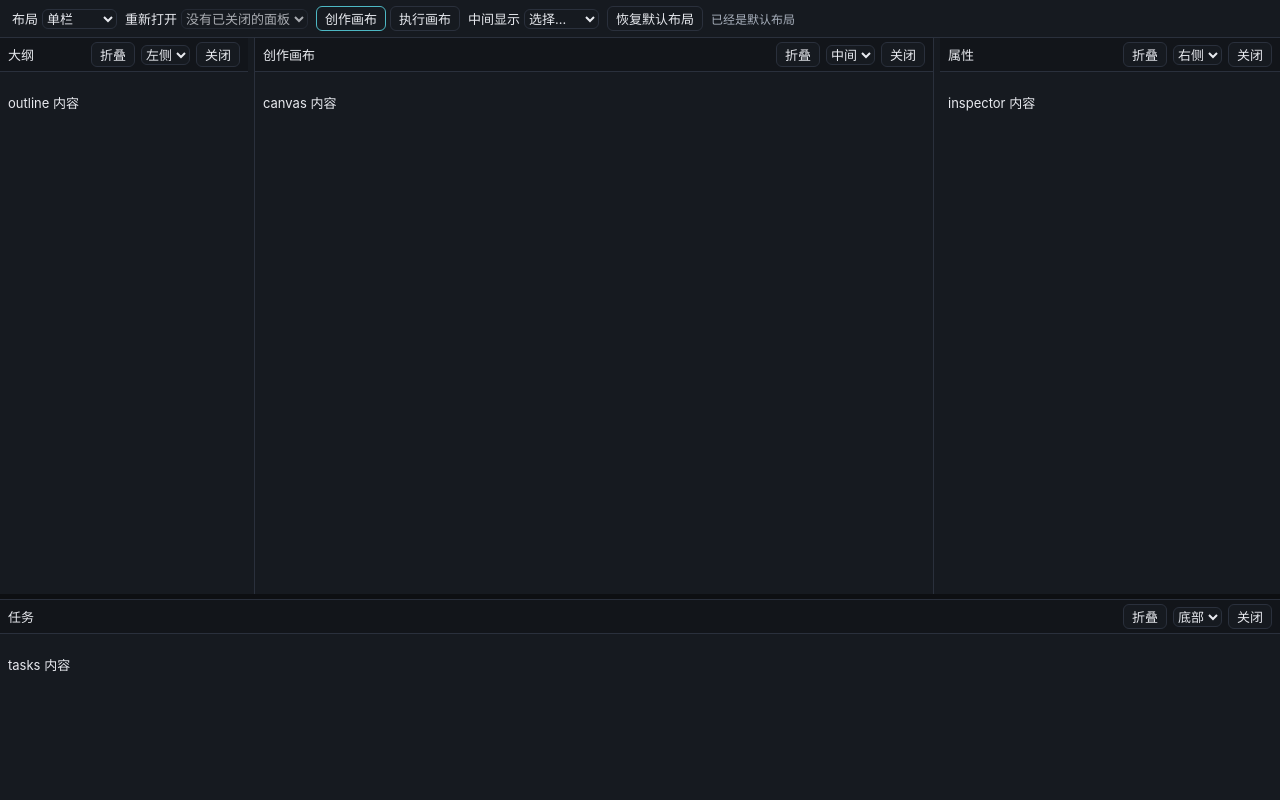
N5 visible main-panel tabs + layout.showPanel › both main panels have a tab; clicking 执行画布 brings it to front, aria-selected follows (M4-s1: tab role)
Expected: the text "exec 内容" is not shown
Click the tab "执行画布": (425, 18) [390,6,460,31]
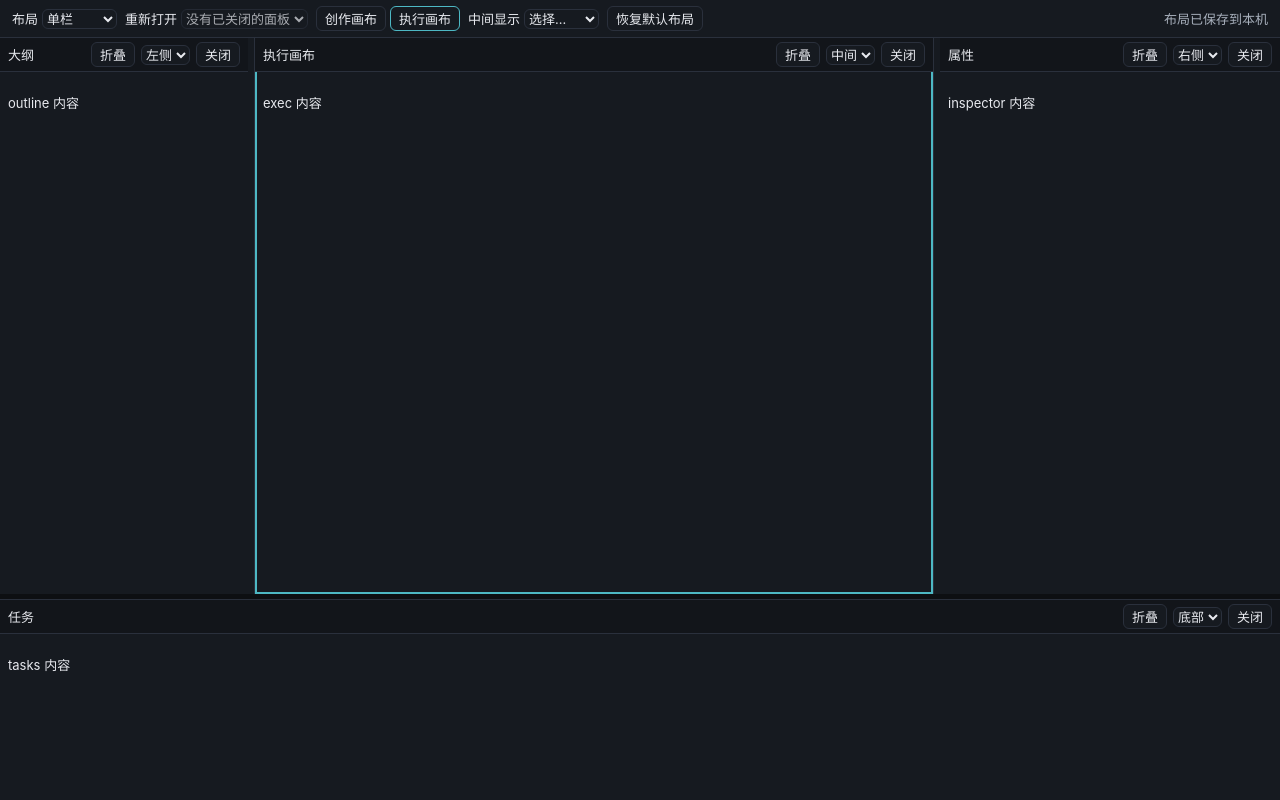
Expected: the text "exec 内容" is shown, [263,95,322,111]
